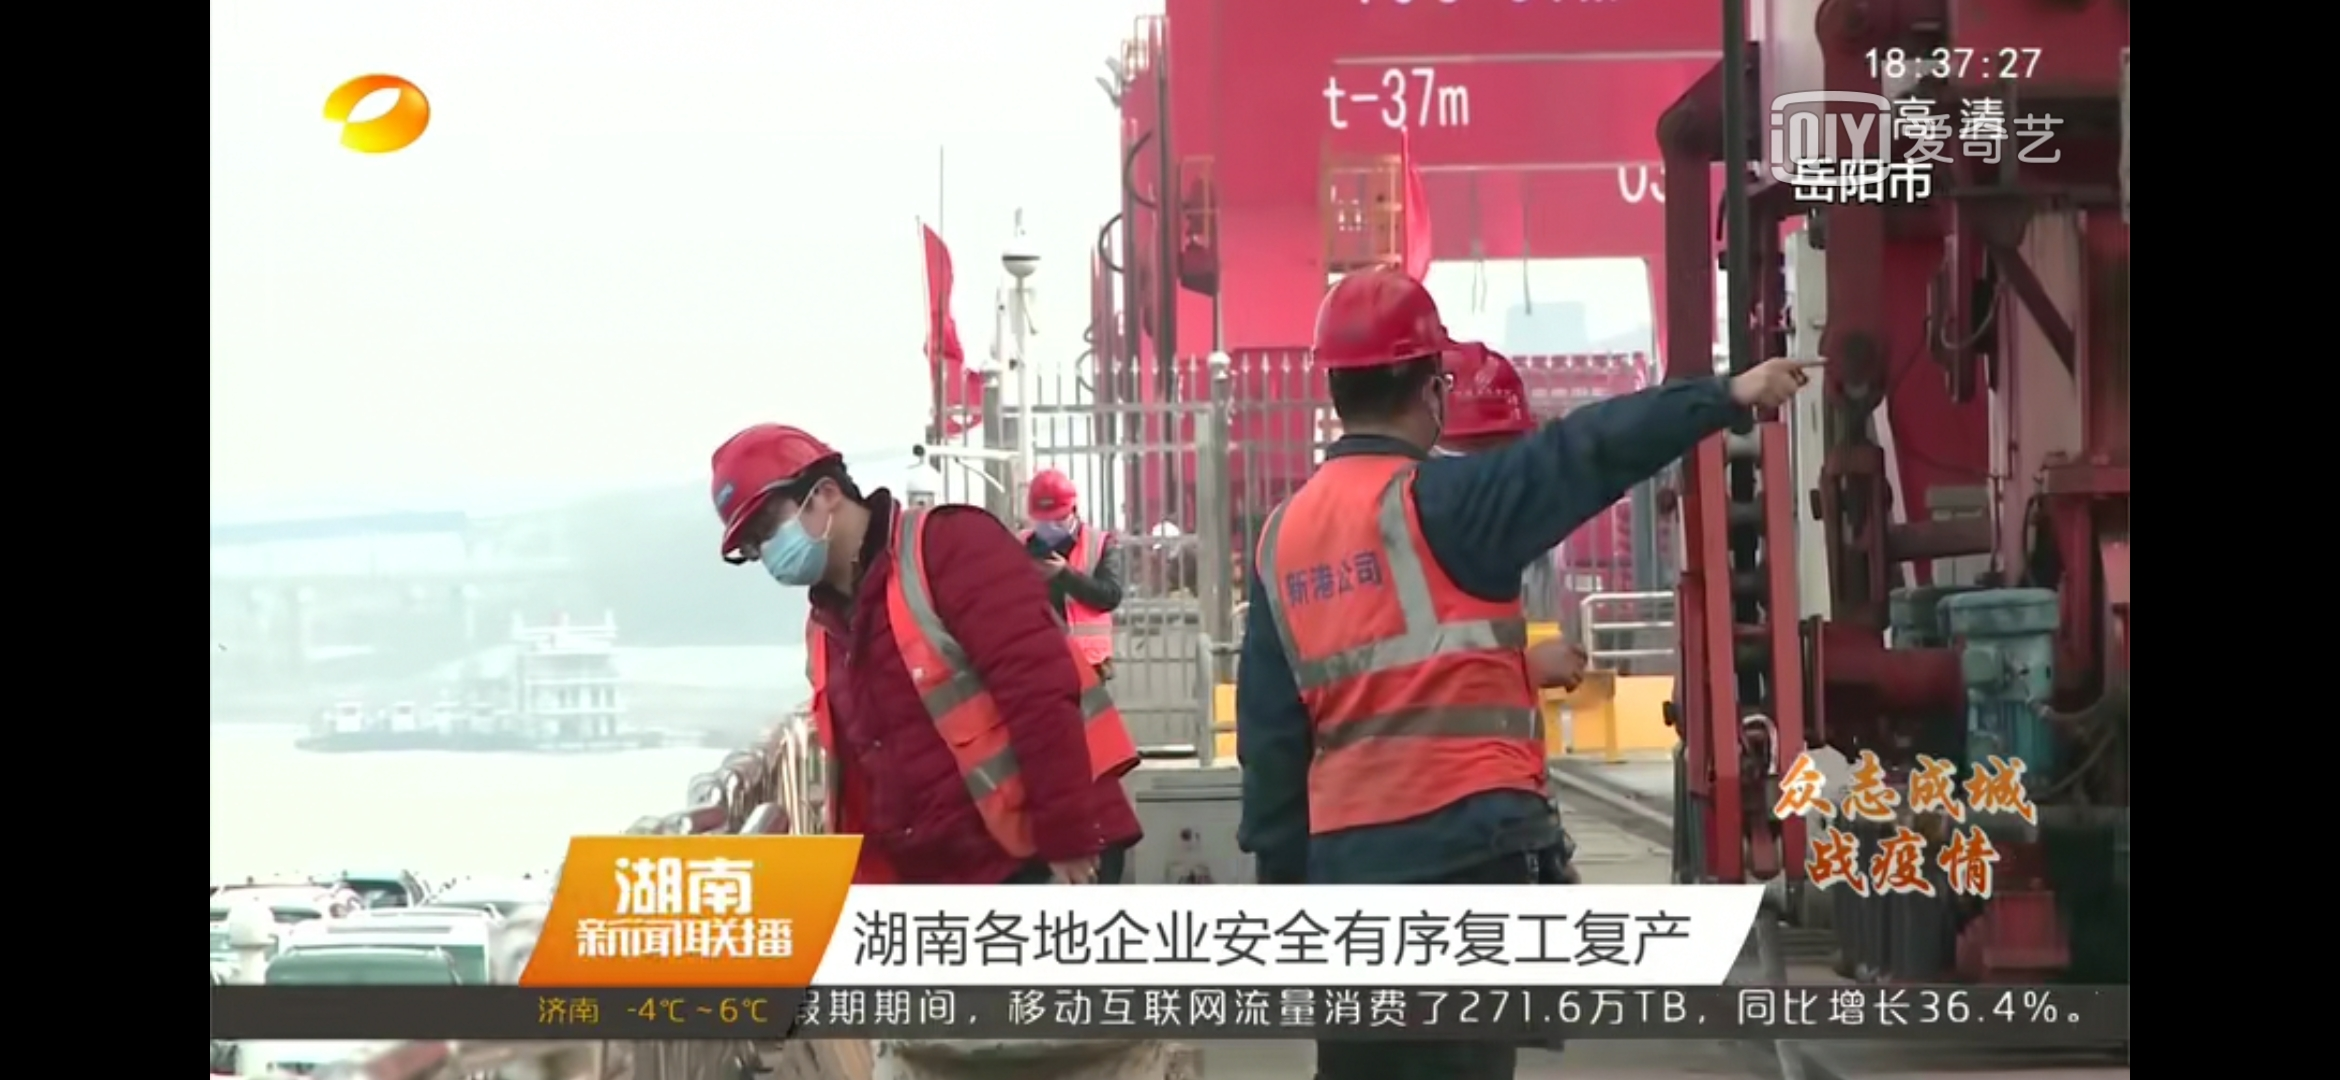correctlyWear: (724, 467, 843, 597), (1019, 497, 1091, 553)
